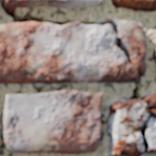brick: (2, 91, 101, 153), (4, 0, 101, 7), (112, 0, 155, 10), (153, 48, 155, 62)
broken_brick: (0, 22, 136, 84), (106, 99, 148, 155), (113, 18, 146, 76), (143, 92, 155, 154)
crack: (0, 0, 154, 155)
